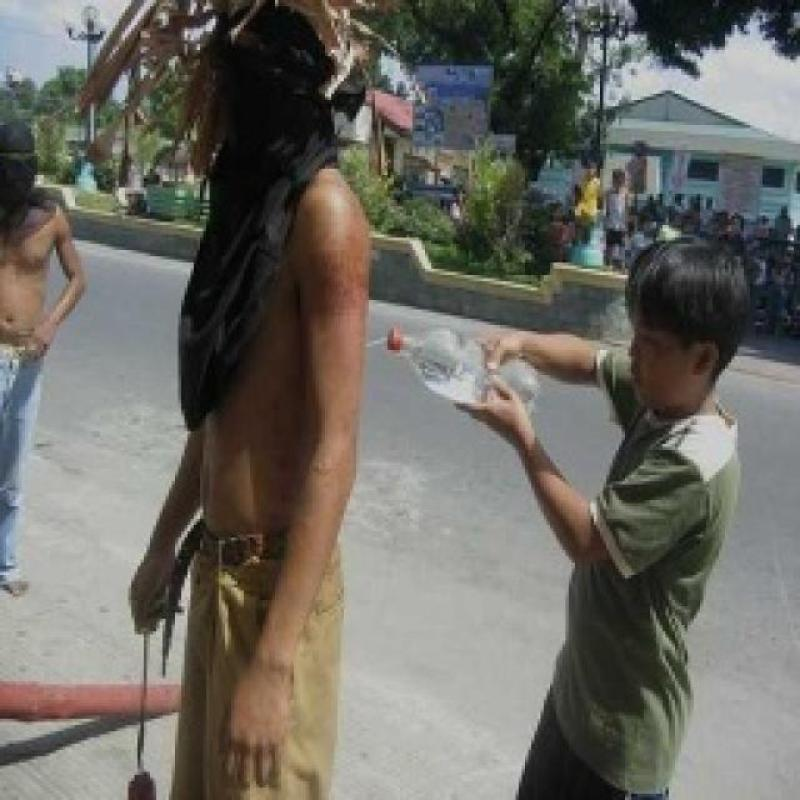botella: (380, 324, 542, 424)
